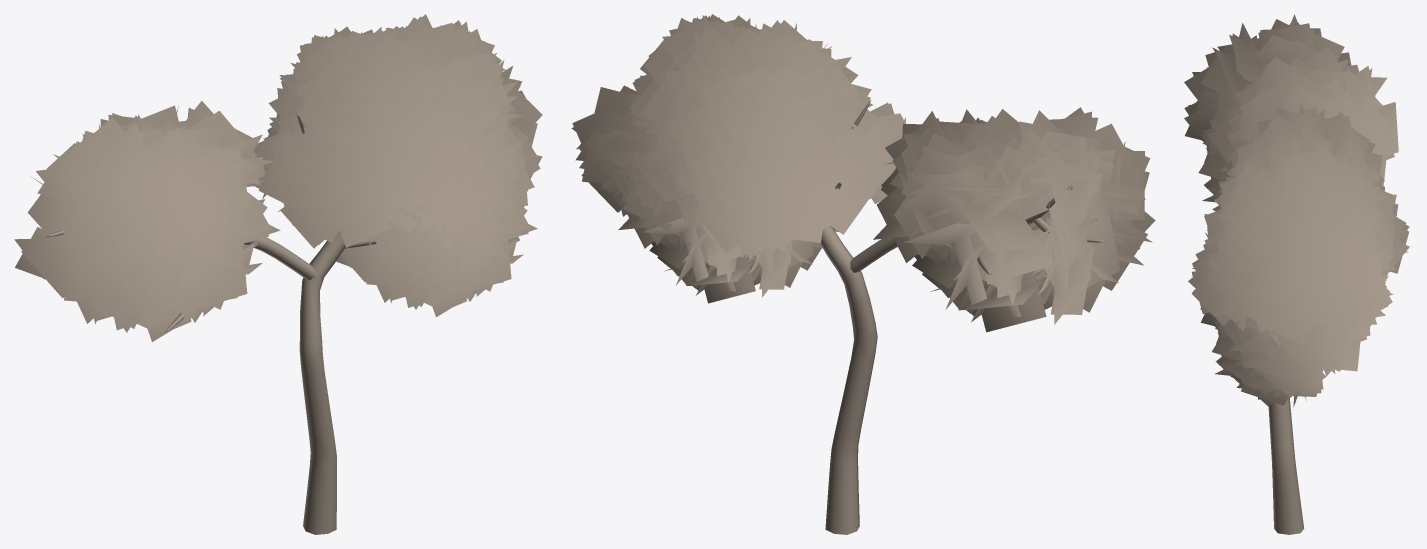
The model's file is NormalTree_4.glb.
3 views of the same model, side by side, from view 1: azimuth 30°, elevation 25°; view 2: azimuth 150°, elevation 25°; view 3: azimuth 270°, elevation 25° (orthographic). The views are drawn at different scales.
Parts seen in each view (by area): view 1: NormalTree_Leaves, NormalTree_Bark; view 2: NormalTree_Leaves, NormalTree_Bark; view 3: NormalTree_Leaves, NormalTree_Bark.
Part boxes in pixels (x1,y1,x2,y2): NormalTree_Leaves: [14, 14, 542, 342]; NormalTree_Bark: [46, 113, 376, 534]; NormalTree_Leaves: [571, 14, 1155, 332]; NormalTree_Bark: [683, 99, 1106, 534]; NormalTree_Leaves: [1184, 14, 1410, 407]; NormalTree_Bark: [1268, 59, 1337, 534].
Size of the model in its own units: 5.67 by 5.1 by 2.4.
